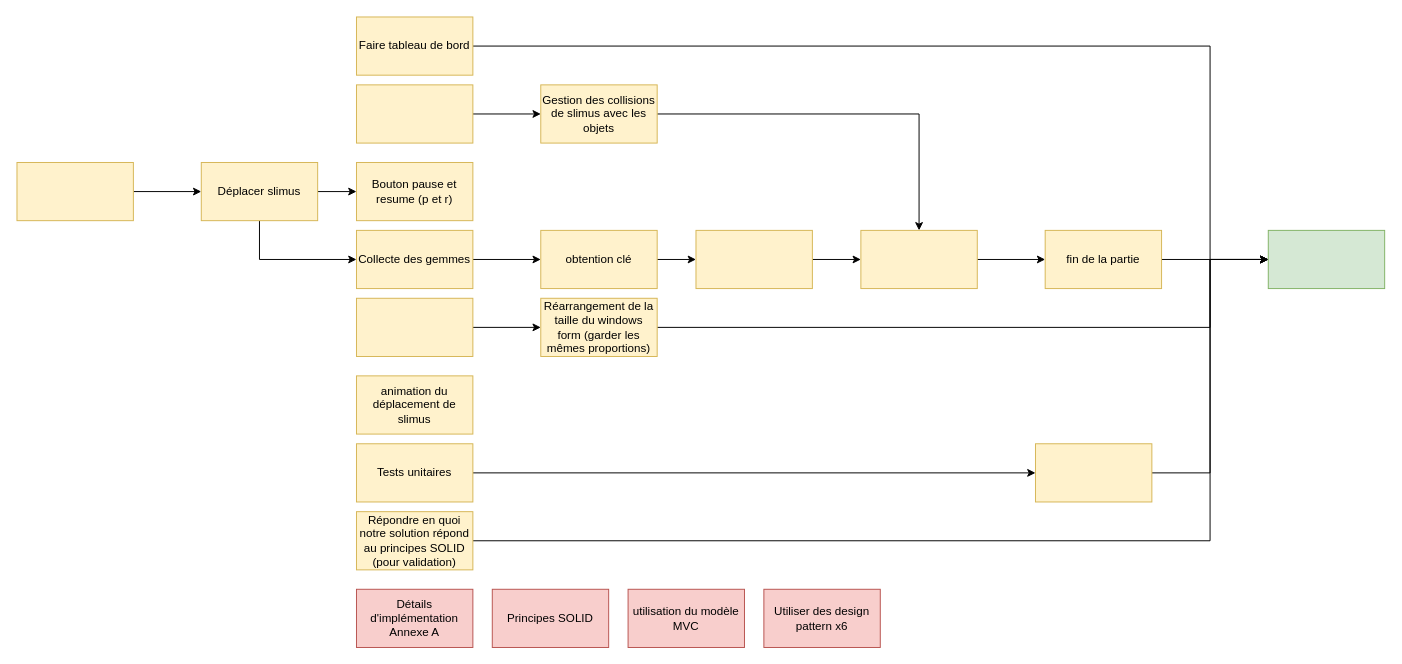
This 1402x664 diagram has some shape labels left out. The centre of each missing label's shape, as x and y in pixels:
affichage labyrinthe: the point at 414,113
Entête du jeu/interface: the point at 414,326
Fin de l'app: the point at 1326,259
gestion input: the point at 74,191
ouverture de la porte menant au slime capturé: the point at 753,259
Rescousse du mini-slime: the point at 918,259
rédaction du readme: the point at 1093,472
